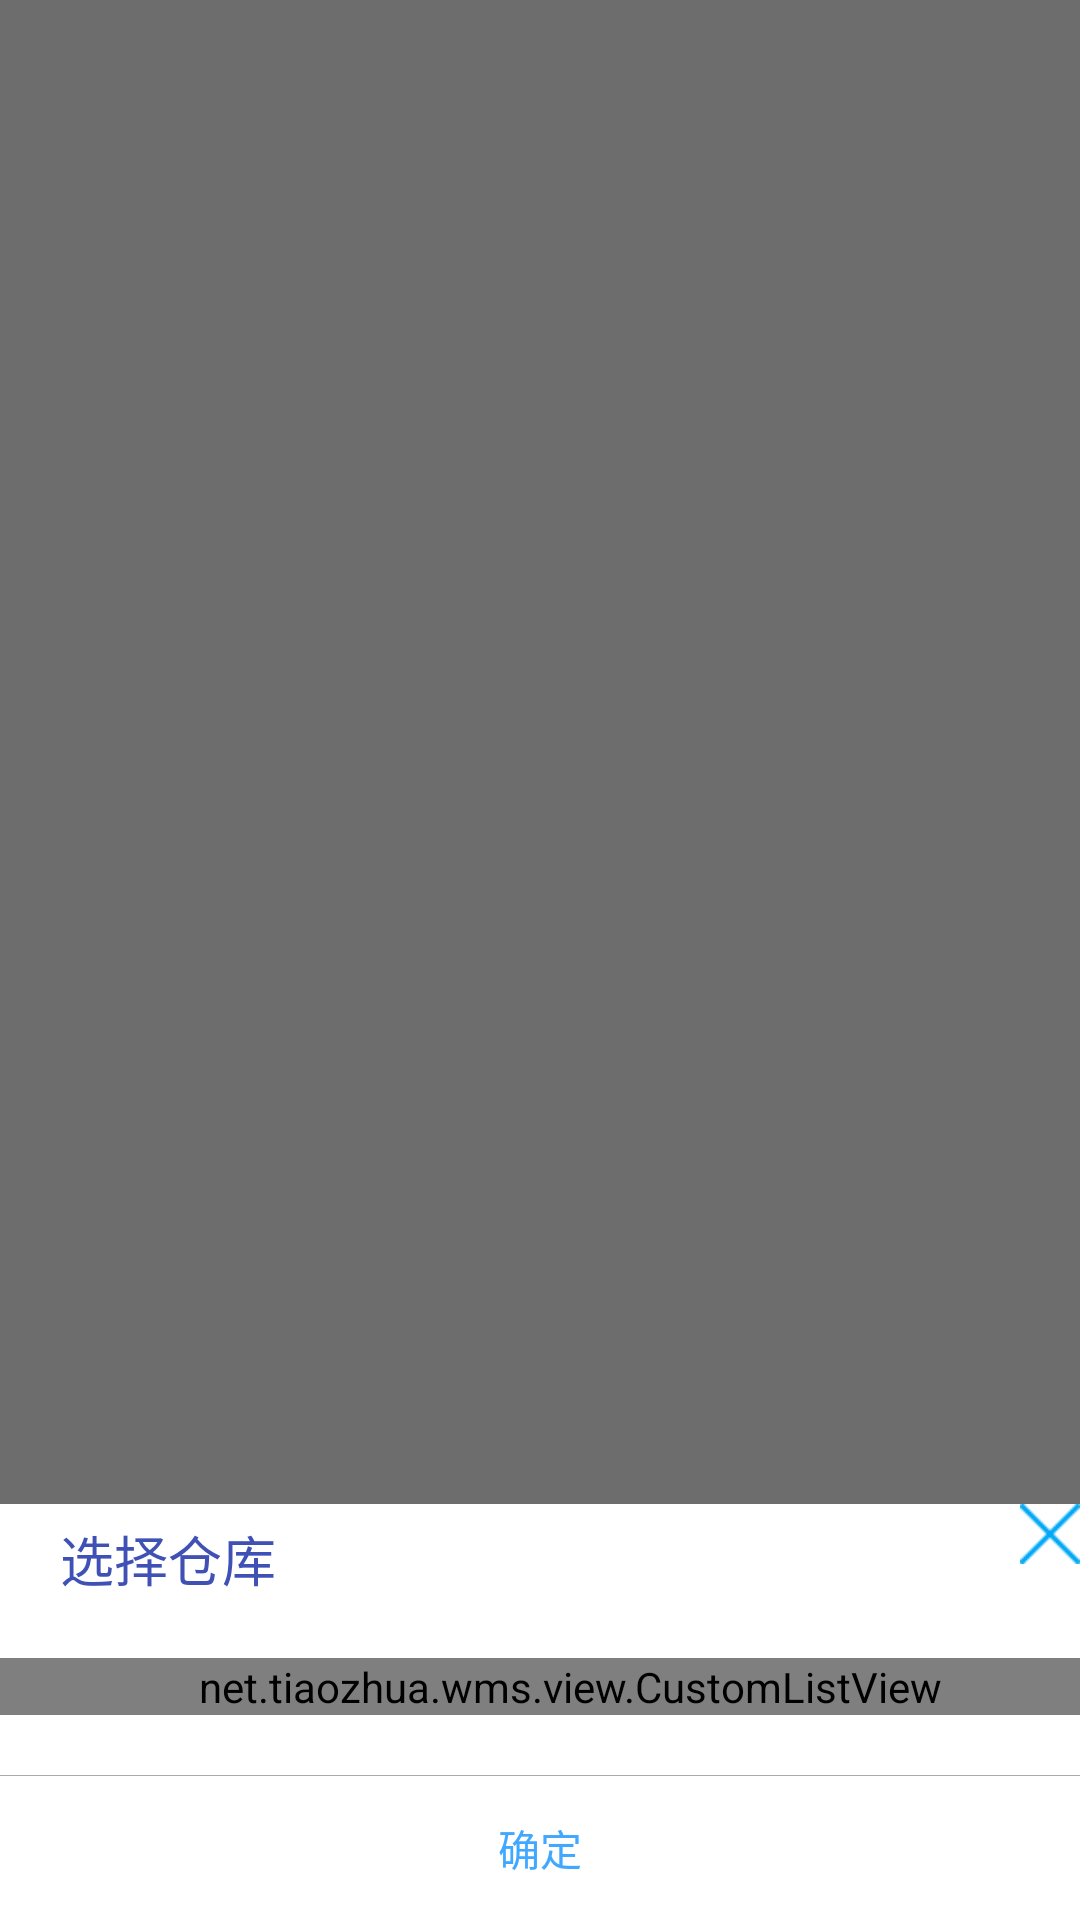

Screen size 1080px x 1920px. Icon name, then its center in pixels as [x,y]:
close: [1050,1534]
